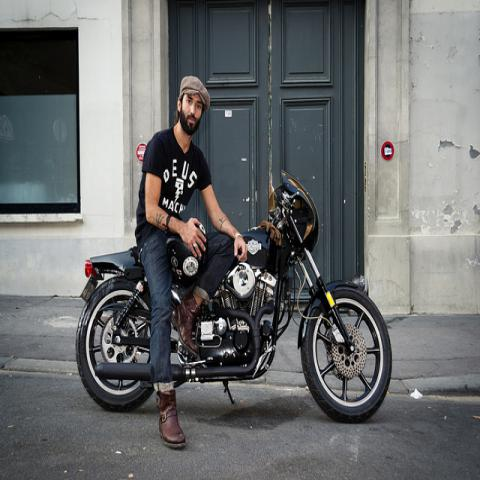motorcycle: (76, 172, 394, 426)
